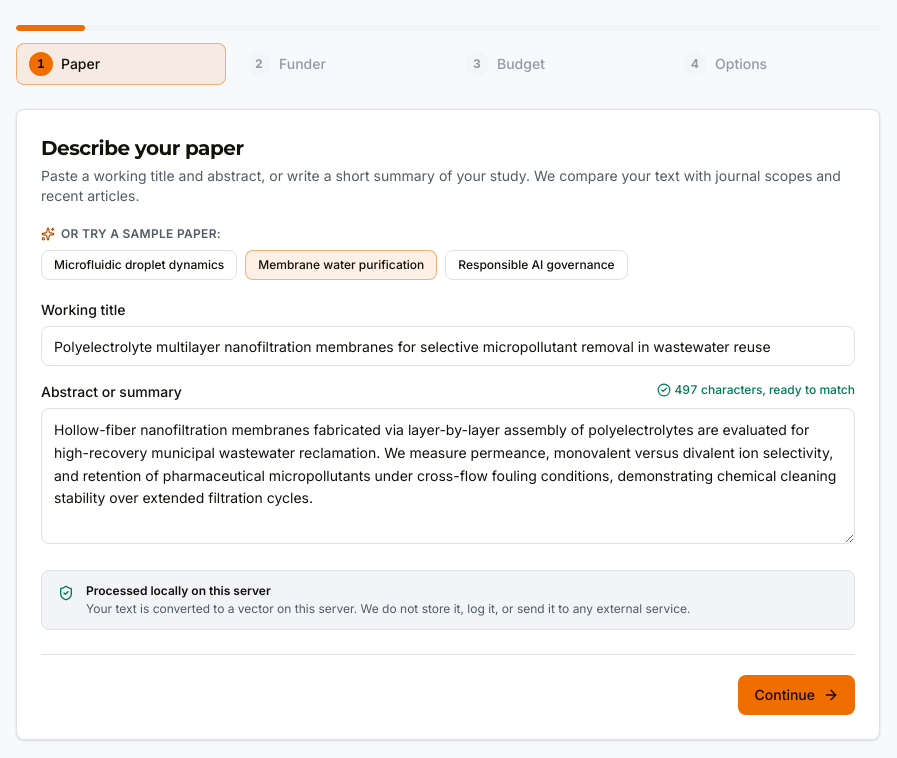
Scenario: <GuideWizard> › walks all 4 steps, submits recommendJournals, and renders podium + alternatives + transparency
Earlier steps of the test are not shown.
Later steps or results of the test are not shown.
(page scrolled)
Step 1. Click the button "Continue" → (797, 695), box [738,675,855,715]
(page scrolled)
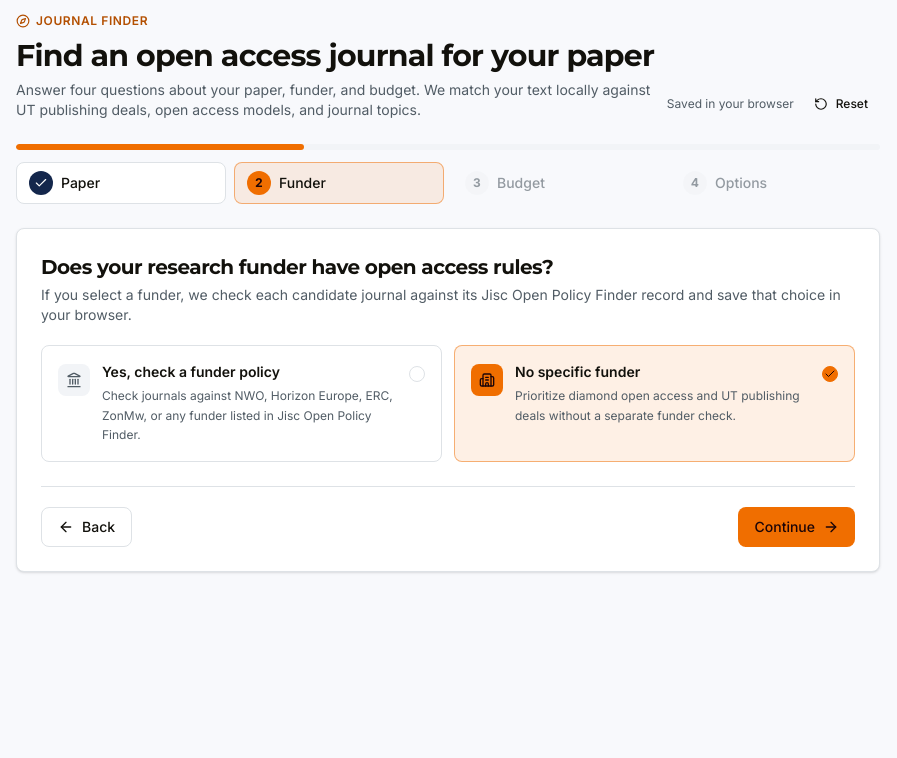
Expected: the heading "Does your research funder have open access rules?" is shown, [41,255,553,279]
